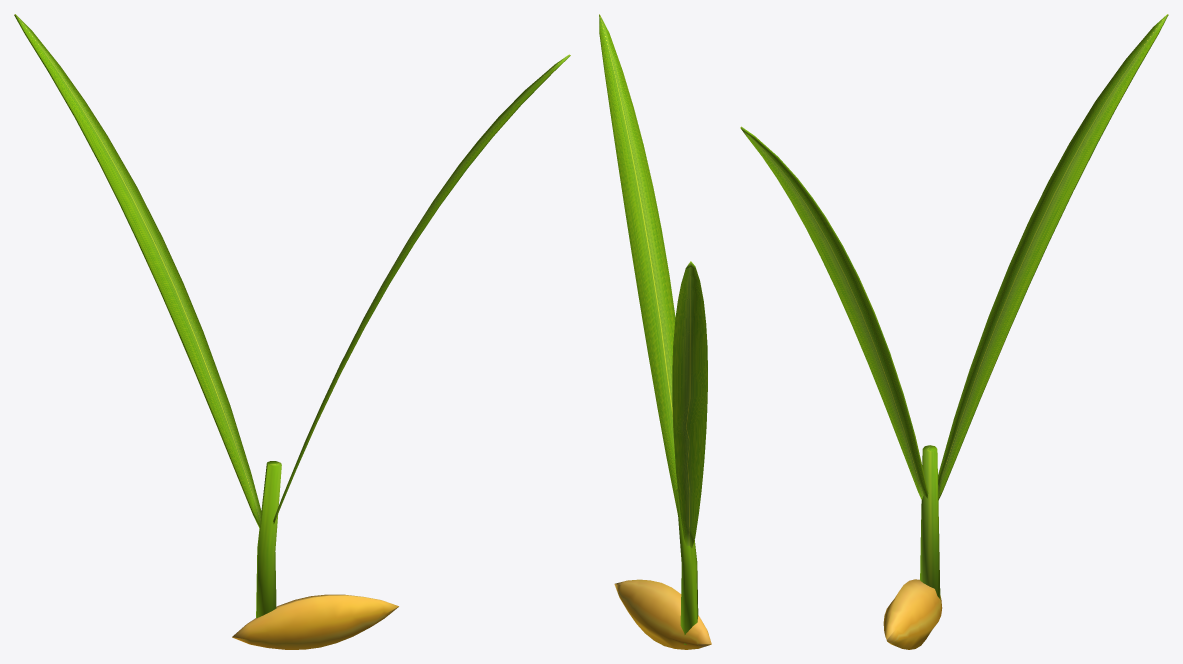
The model's file is NP_Rice_Sprout_LOD1.fbx.
3 views of the same model, side by side, from view 1: azimuth 30°, elevation 25°; view 2: azimuth 150°, elevation 25°; view 3: azimuth 270°, elevation 25° (orthographic). The views are drawn at different scales.
Visible parts, largest first — view 1: NP_Rice_Sprout; view 2: NP_Rice_Sprout; view 3: NP_Rice_Sprout.
Part boxes in pixels (x1,y1,x2,y2): NP_Rice_Sprout: (14,14,570,649); NP_Rice_Sprout: (599,14,711,649); NP_Rice_Sprout: (740,14,1168,649).
Bounding box in the file's own units: 20.75 × 37.23 × 24.35.
